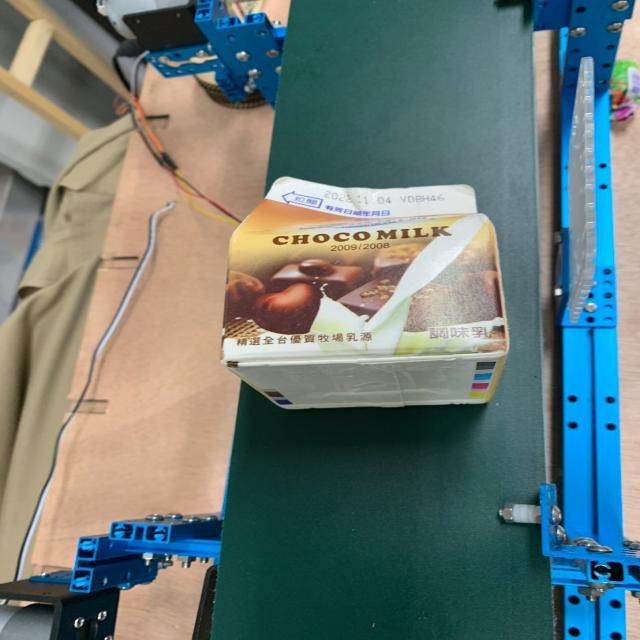non_white_jug: (216, 163, 519, 423)
